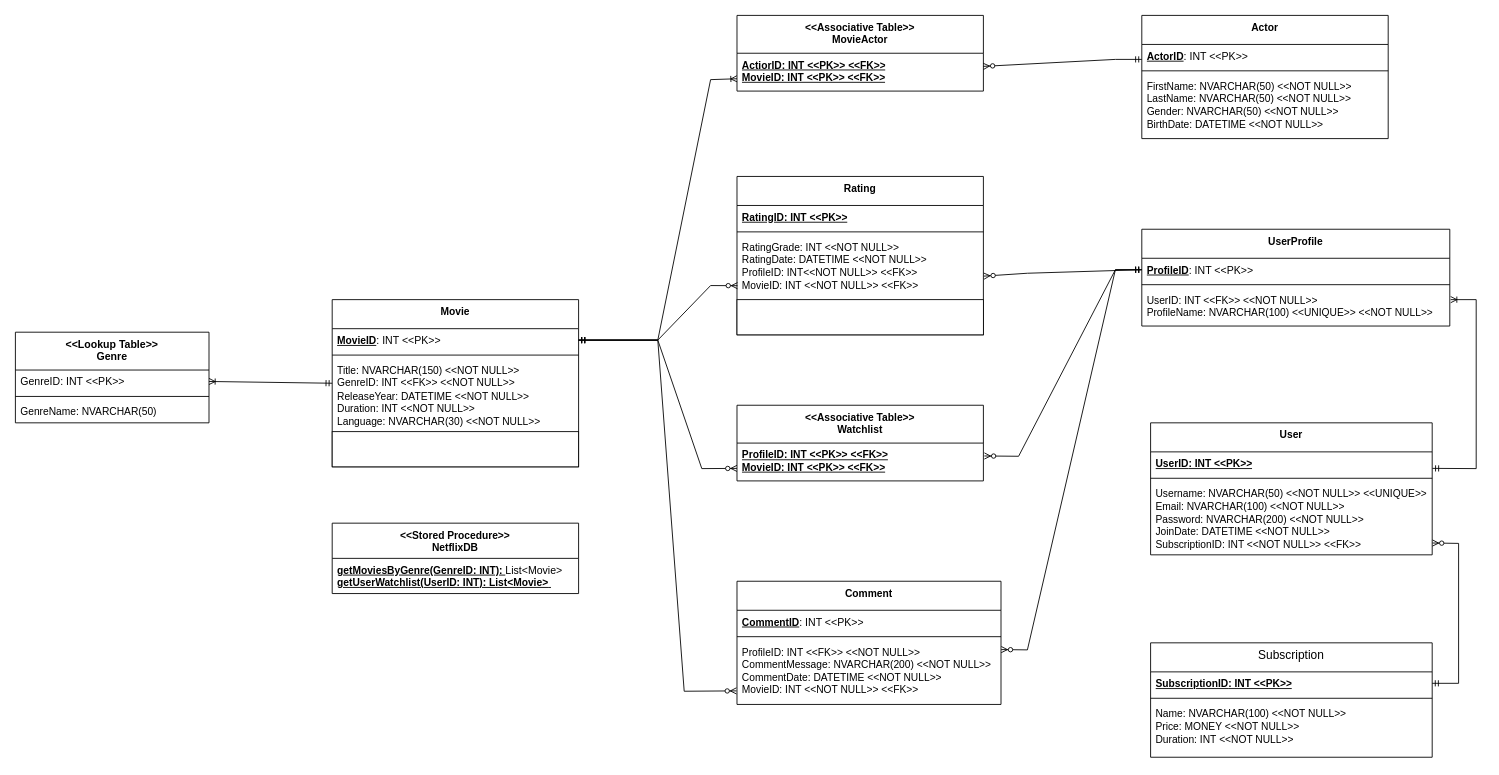
The diagram is 1499 pixels wide and 775 high, and some of its shapes have lost their labels. Here are the shapes that lost their labels. From the top down, the centre of each, then its label:
At (x=859, y=317): "UpdateRatingDate { event = after insert }".
At (x=455, y=449): "PreventMovieDeletion { event = instead of delete }".
